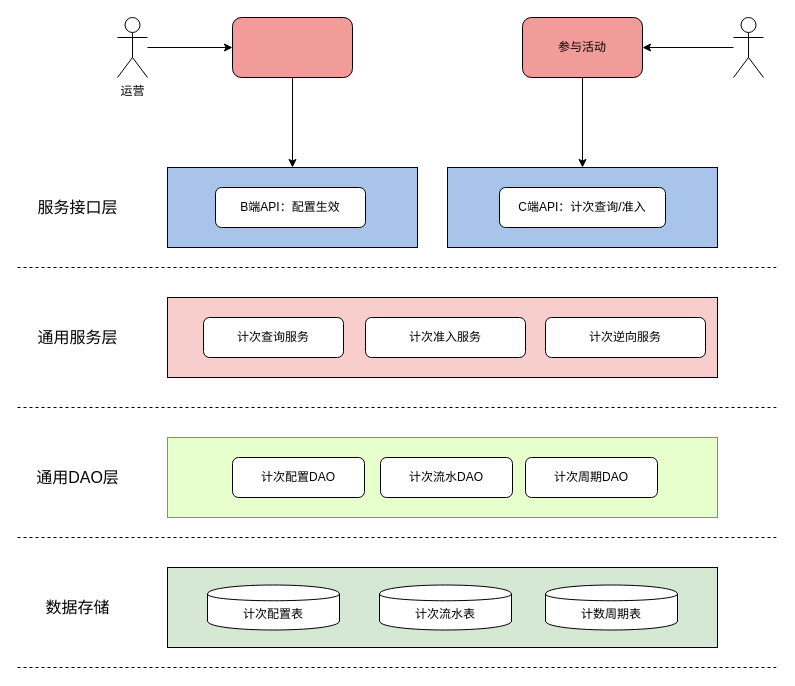
Some shapes in this 795 by 686 pixel diagram are drawn without their labels. The shapes that lost their labels are listed below. From the top down, each one's box as (x1, y1, x2, y2) in pixels, then its label:
(232, 16, 352, 78): 活动计次配置
(732, 16, 764, 78): 用户
